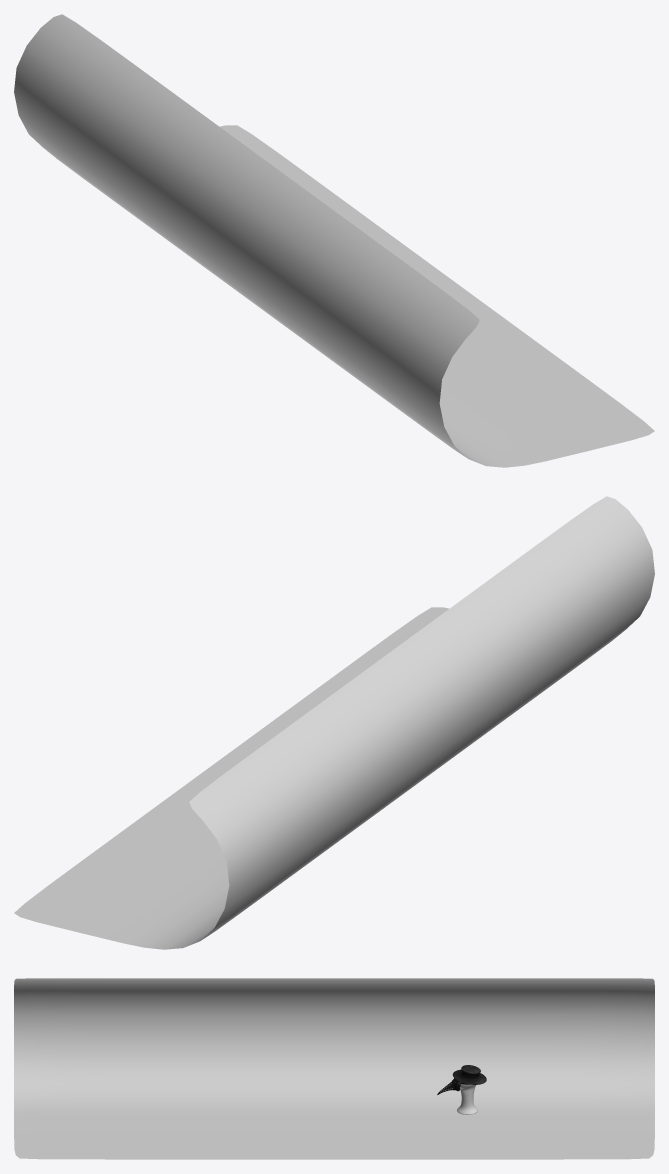
Rendered from DOCRender.fbx.
The picture shows the model from 3 angles, top to bottom: view 1: azimuth 30°, elevation 25°; view 2: azimuth 150°, elevation 25°; view 3: azimuth 270°, elevation 25°; orthographic projection. The views are drawn at different scales.
Visible parts, largest first — view 1: Plane_001; view 2: Plane_001; view 3: Plane_001, Torus_001, Cylinder.
Boxes of the visible parts, box(x1,y1,x2,y2) form: Plane_001: box(14, 14, 654, 467); Plane_001: box(14, 496, 654, 949); Plane_001: box(14, 978, 654, 1159); Torus_001: box(437, 1065, 486, 1094); Cylinder: box(457, 1084, 477, 1114).
Bounding box in the file's own units: 5.68 × 3.76 × 18.78.
